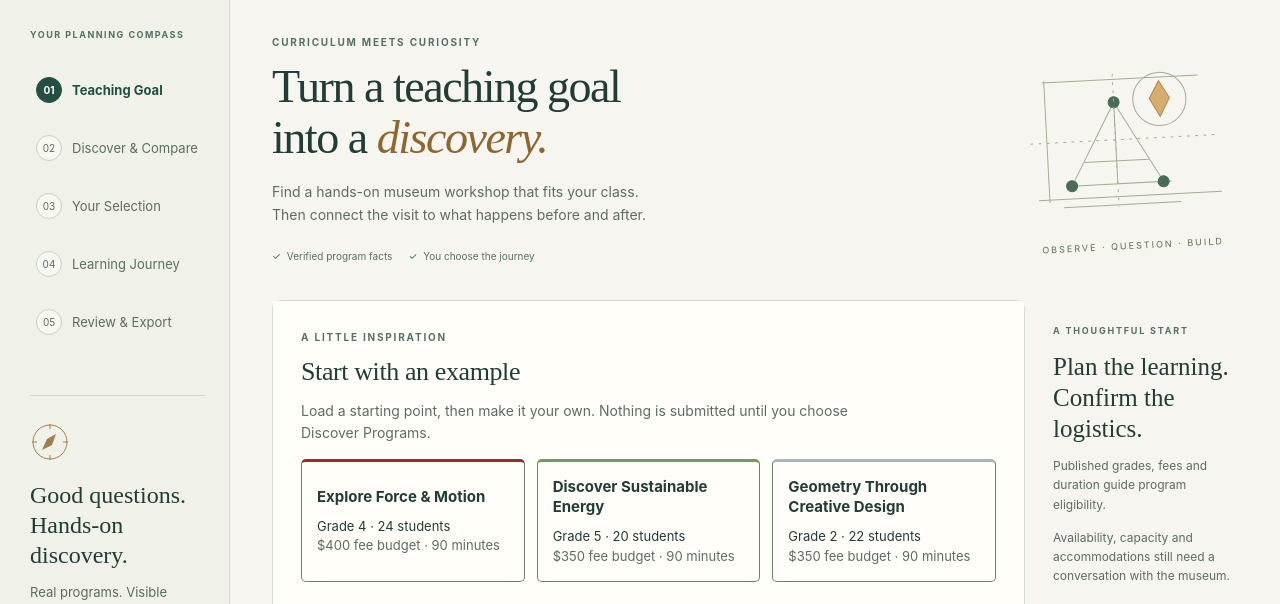
replaces preset fields predictably and requires renewed USD acknowledgment
Click the button with aria-label "Load Explore Force & Motion example" at (413, 520), box top-left (301, 459), bottom-right (525, 582)
(page scrolled)
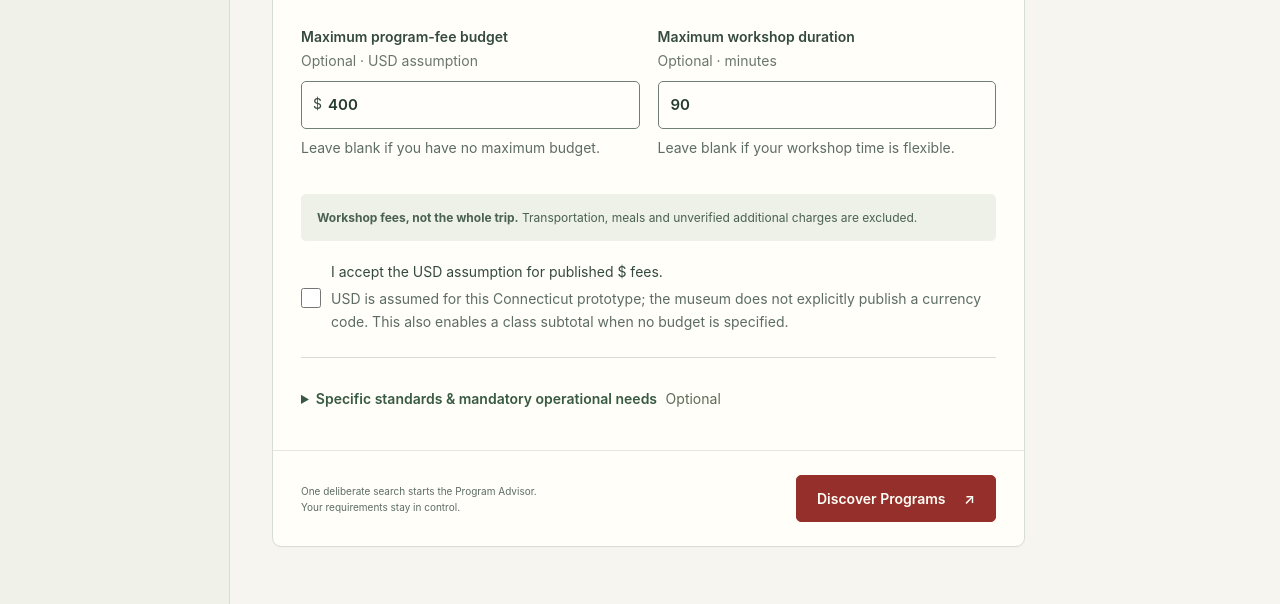
Click the checkbox labelled "I accept the USD" at (311, 298), box top-left (301, 288), bottom-right (321, 308)
(page scrolled)
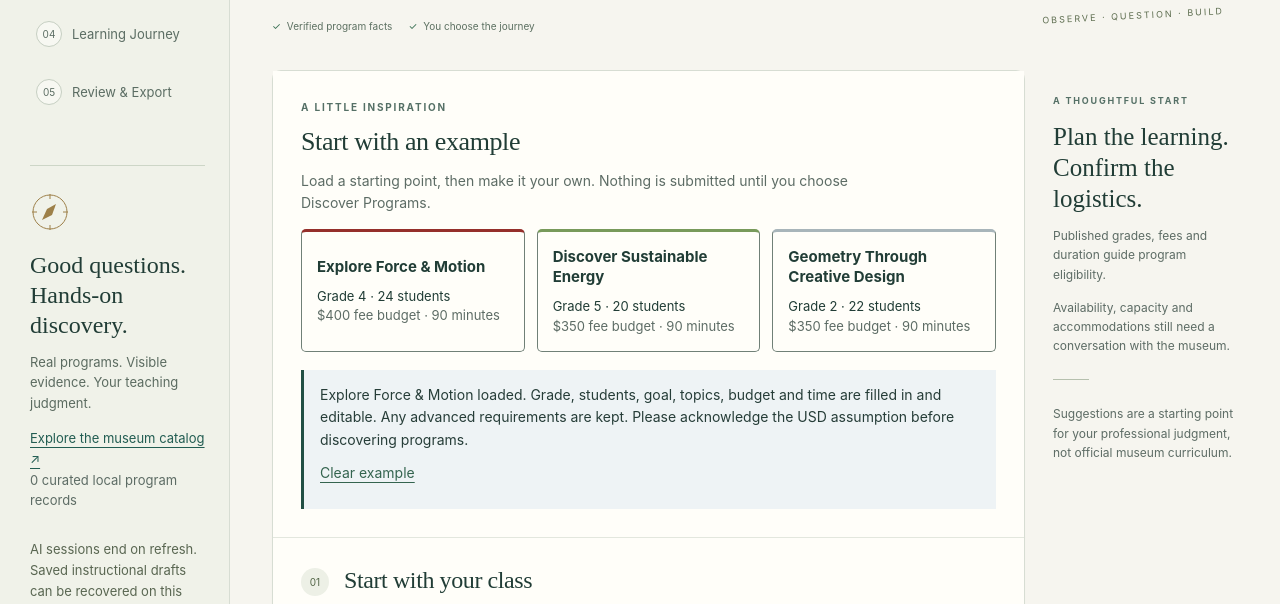
Click the button with aria-label "Load Discover Sustainable Energy example" at (649, 290), box top-left (537, 229), bottom-right (760, 352)
(page scrolled)
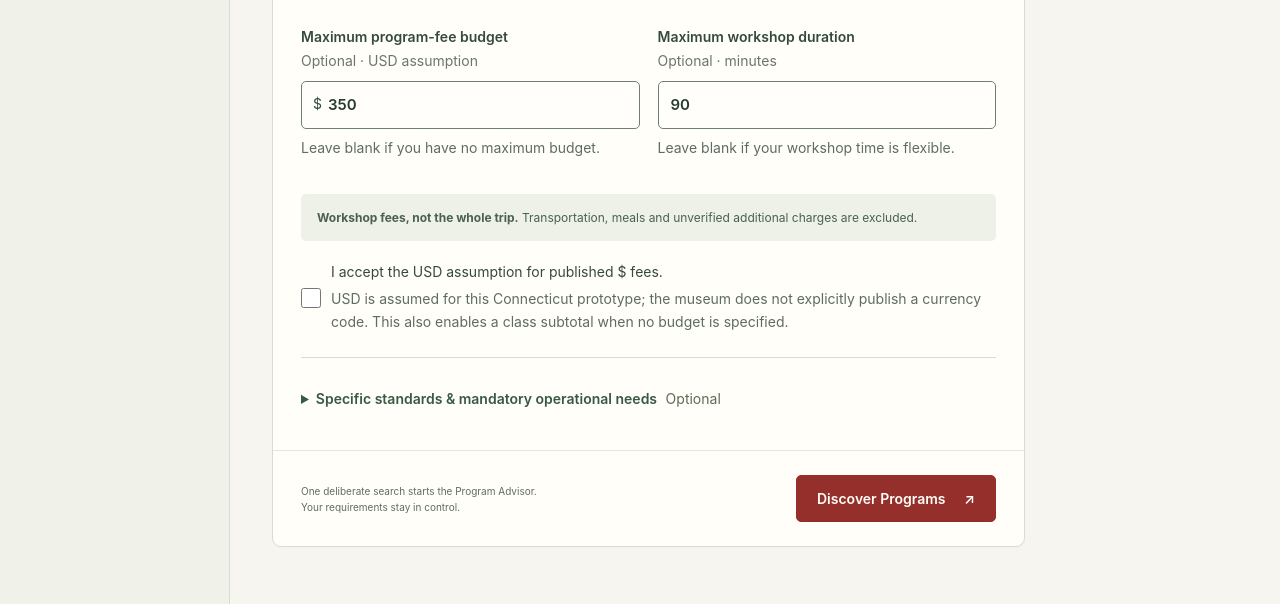
Now the checkbox labelled "I accept the USD" is not checked, box top-left (301, 288), bottom-right (321, 308)
Click the button "Discover Programs ↗" at (896, 498), box top-left (796, 475), bottom-right (996, 522)
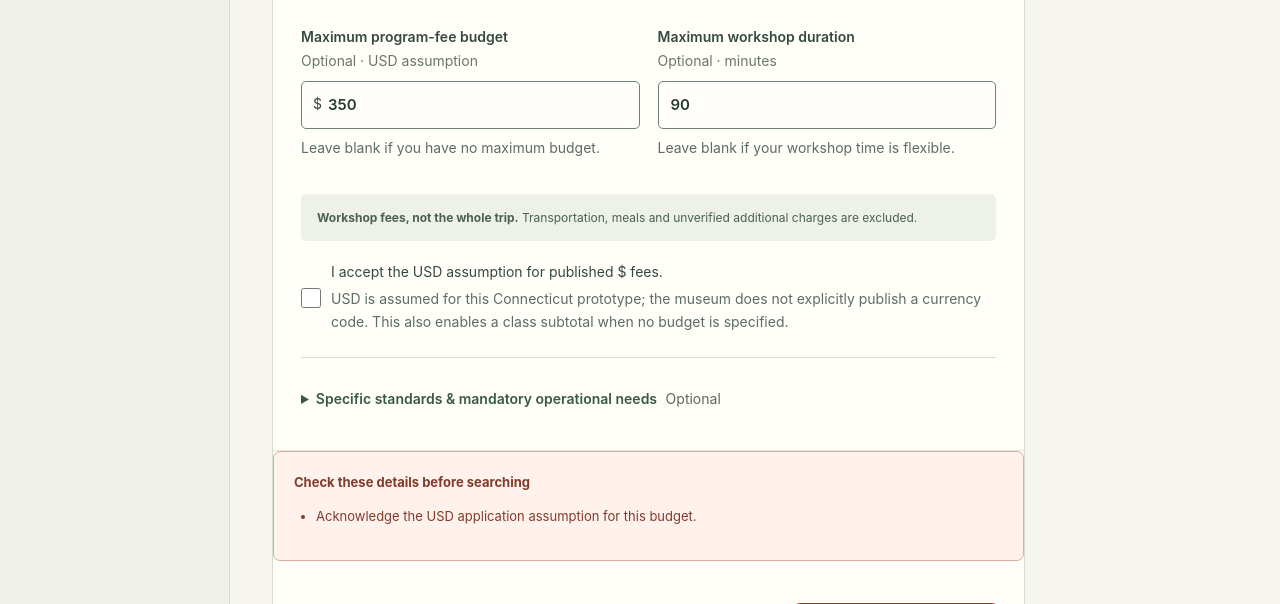
Now the message shows "USD", box top-left (316, 508), bottom-right (697, 524)
